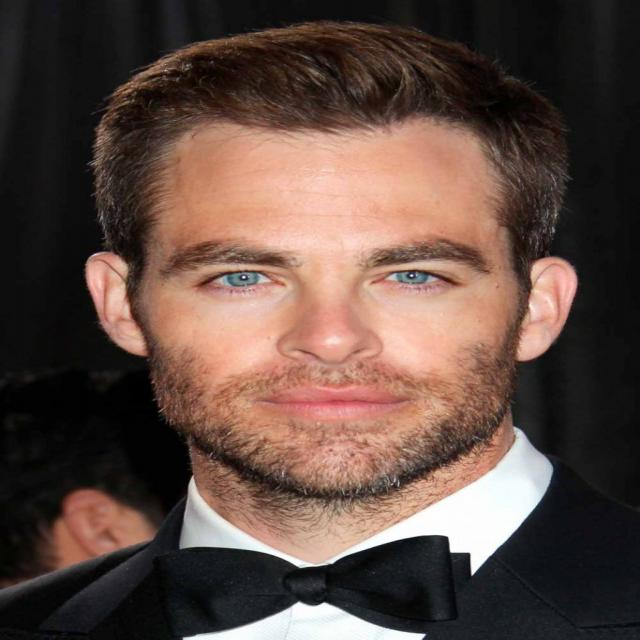beard: (149, 343, 516, 498)
hair: (91, 21, 569, 273)
